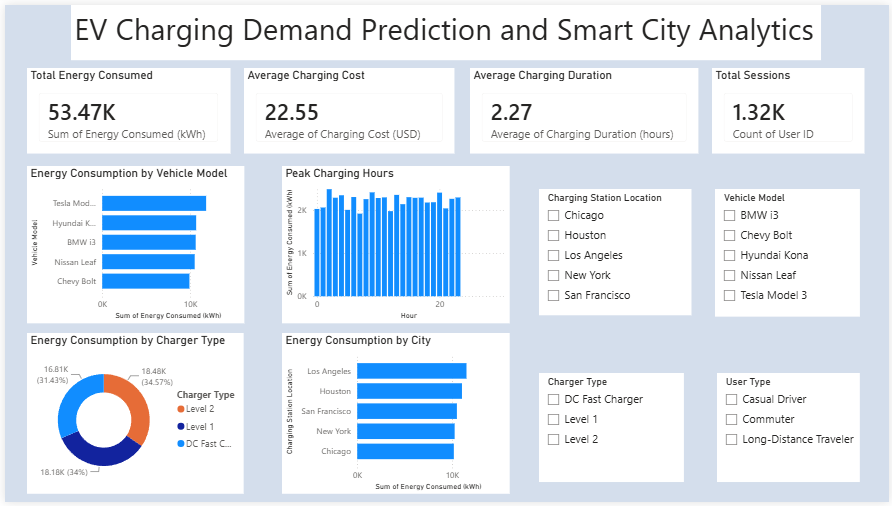

The dashboard page shown, as its layout file describes it:
{"tool":"powerbi","page":{"name":"Page 1","canvas":[1280,720],"ordinal":0},"visuals":[{"type":"cardVisual","title":"Total Energy Consumed","fields":{"Data":["Sum(ev_charging_patterns_cleaned (1).Energy Consumed (kWh))"]},"box":[31.4,91.6,294.5,124.4],"z":0},{"type":"cardVisual","title":"Average Charging Cost","fields":{"Data":["Avg(ev_charging_patterns_cleaned (1).Charging Cost (USD))"]},"box":[346.9,91.6,305,124.4],"z":1},{"type":"cardVisual","title":"Average Charging Duration","fields":{"Data":["Avg(ev_charging_patterns_cleaned (1).Charging Duration (hours))"]},"box":[674.2,91.6,331.2,124.4],"z":2},{"type":"cardVisual","title":"Total Sessions","fields":{"Data":["CountNonNull(ev_charging_patterns_cleaned (1).User ID)"]},"box":[1025,91.6,221.2,124.4],"z":3},{"type":"clusteredBarChart","title":"Energy Consumption by City","fields":{"Category":["ev_charging_patterns_cleaned (1).Charging Station Location"],"Y":["Sum(ev_charging_patterns_cleaned (1).Energy Consumed (kWh))"]},"box":[401.9,475.2,329.9,244.8],"z":4},{"type":"clusteredColumnChart","title":"Peak Charging Hours","fields":{"Category":["ev_charging_patterns_cleaned (1).Hour"],"Y":["Sum(ev_charging_patterns_cleaned (1).Energy Consumed (kWh))"]},"box":[401.9,233,329.9,227.8],"z":5},{"type":"donutChart","title":"Energy Consumption by Charger Type","fields":{"Category":["ev_charging_patterns_cleaned (1).Charger Type"],"Y":["Sum(ev_charging_patterns_cleaned (1).Energy Consumed (kWh))"]},"box":[31.4,475.2,315.5,244.8],"z":6},{"type":"clusteredBarChart","title":"Energy Consumption by Vehicle Model","fields":{"Category":["ev_charging_patterns_cleaned (1).Vehicle Model"],"Y":["Sum(ev_charging_patterns_cleaned (1).Energy Consumed (kWh))"]},"box":[31.4,233,315.5,227.8],"z":7},{"type":"slicer","fields":{"Values":["ev_charging_patterns_cleaned (1).Charging Station Location"]},"box":[774.5,267,220.5,183.3],"z":8},{"type":"slicer","fields":{"Values":["ev_charging_patterns_cleaned (1).Vehicle Model"]},"box":[1029.5,267,209.9,184.6],"z":9},{"type":"slicer","fields":{"Values":["ev_charging_patterns_cleaned (1).Charger Type"]},"box":[774.5,532.7,209.9,158.1],"z":10},{"type":"slicer","fields":{"Values":["ev_charging_patterns_cleaned (1).User Type"]},"box":[1032.2,532.7,207.2,158.1],"z":11},{"type":"textbox","box":[95.1,0,1087.3,80.5],"z":12}]}

Visuals, with their boxes in screenshot pixels (x1, y1, x2, y2), scaled from the page's 1280x720 canvas onto the 892x506 screenshot:
"Total Energy Consumed" cardVisual: [22, 64, 227, 152]
"Average Charging Cost" cardVisual: [242, 64, 454, 152]
"Average Charging Duration" cardVisual: [470, 64, 701, 152]
"Total Sessions" cardVisual: [714, 64, 868, 152]
"Energy Consumption by City" clusteredBarChart: [280, 334, 510, 505]
"Peak Charging Hours" clusteredColumnChart: [280, 164, 510, 324]
"Energy Consumption by Charger Type" donutChart: [22, 334, 242, 505]
"Energy Consumption by Vehicle Model" clusteredBarChart: [22, 164, 242, 324]
slicer - ev_charging_patterns_cleaned (1).Charging Station Location: [540, 188, 693, 316]
slicer - ev_charging_patterns_cleaned (1).Vehicle Model: [717, 188, 864, 317]
slicer - ev_charging_patterns_cleaned (1).Charger Type: [540, 374, 686, 485]
slicer - ev_charging_patterns_cleaned (1).User Type: [719, 374, 864, 485]
textbox: [66, 0, 824, 57]
